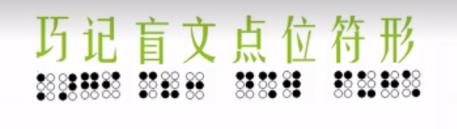Braille: (356, 69, 376, 100), (380, 69, 400, 100), (36, 72, 57, 101), (138, 71, 159, 100), (333, 70, 354, 99), (58, 72, 78, 102), (402, 69, 422, 99), (80, 72, 100, 101), (185, 72, 205, 101), (258, 71, 278, 100), (282, 70, 302, 99), (102, 70, 121, 100), (235, 71, 255, 99), (161, 70, 180, 99)
